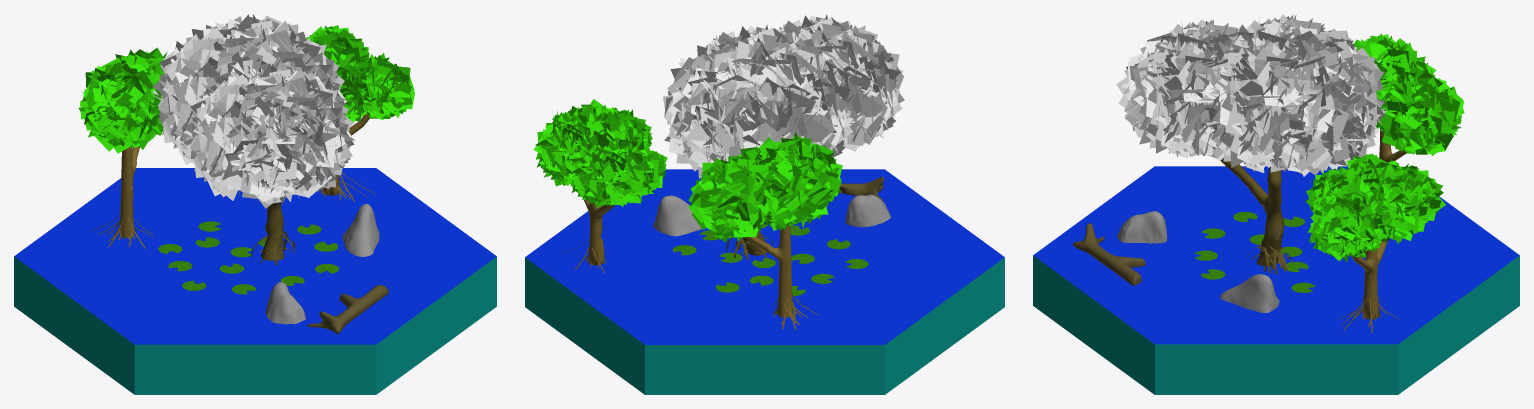
The model's file is Tuile_Eau_Foret_Niv3.fbx.
3 renders of one model, left to right at view 1: azimuth 30°, elevation 25°; view 2: azimuth 150°, elevation 25°; view 3: azimuth 270°, elevation 25°, orthographic.
Visible parts, largest first — view 1: Tuile, Plane.010, Cylinder.003, Cylinder.001, niv1.004, niv1.003, Niv3.003; view 2: Tuile, Plane.010, Cylinder.003, Cylinder.001, niv1.004, niv1.003, Niv3.003; view 3: Tuile, Plane.010, Cylinder.001, Cylinder.003, niv1.004, niv1.003, Niv3.003.
Part boxes in pixels (x1,y1,x2,y2): Tuile: (14,168,496,394); Plane.010: (152,14,355,265); Cylinder.003: (78,47,167,248); Cylinder.001: (306,25,414,201); niv1.004: (265,204,379,324); niv1.003: (158,221,339,294); Niv3.003: (307,285,388,333); Tuile: (525,169,1004,394); Plane.010: (663,14,904,259); Cylinder.003: (688,131,842,329); Cylinder.001: (534,99,667,273); niv1.004: (653,194,890,236); niv1.003: (672,224,868,295); Niv3.003: (806,177,883,201); Tuile: (1033,166,1519,394); Plane.010: (1116,14,1386,274); Cylinder.001: (1305,154,1445,332); Cylinder.003: (1352,33,1464,162); niv1.004: (1117,211,1279,312); niv1.003: (1195,212,1365,292); Niv3.003: (1073,222,1145,285).
Bounding box in the file's own units: 109 × 78.57 × 124.
